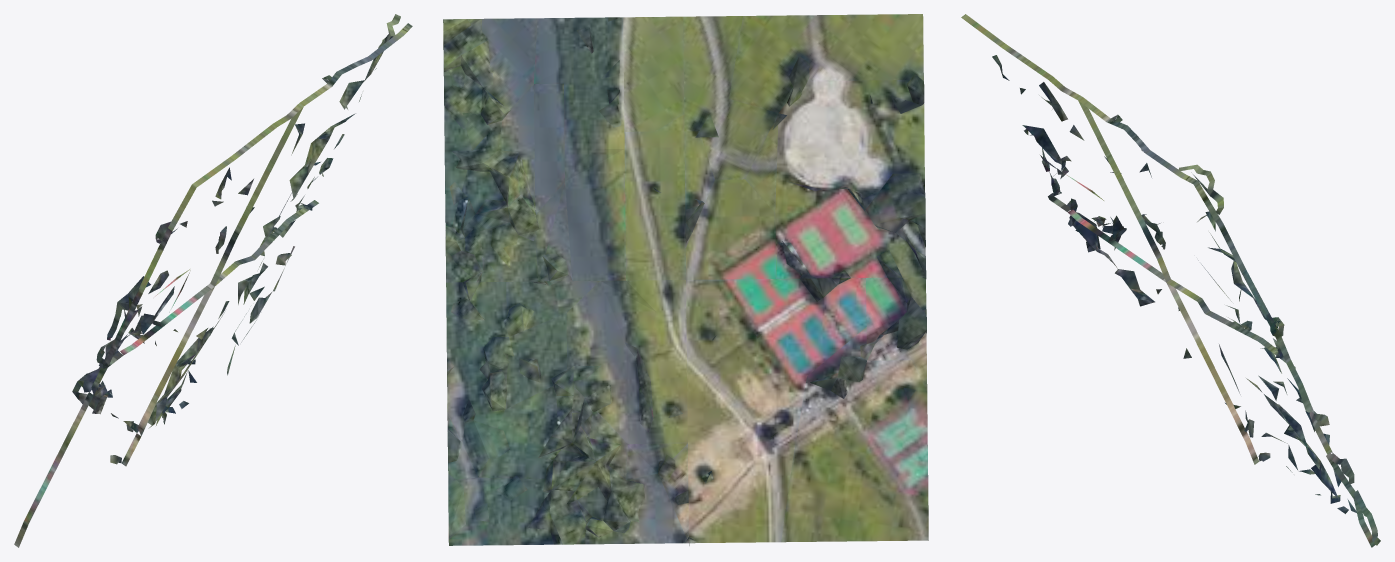
The picture shows the model from 3 angles, left to right: view 1: azimuth 30°, elevation 25°; view 2: azimuth 150°, elevation 25°; view 3: azimuth 270°, elevation 25°; orthographic projection. The views are drawn at different scales.
Bounding box in the file's own units: 306 × 282 × 257.
1 material, 1 textured.
